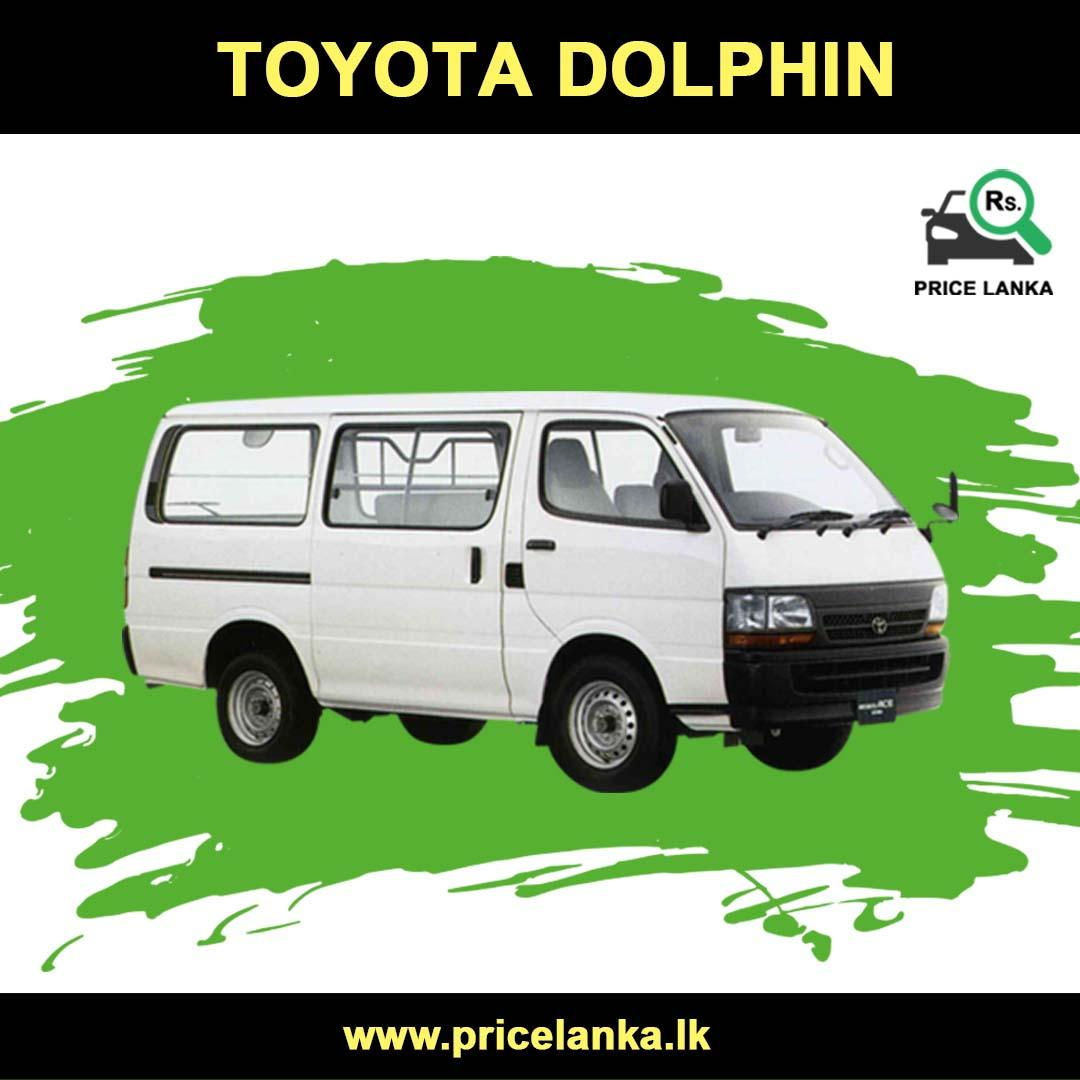van: (122, 392, 959, 794)
